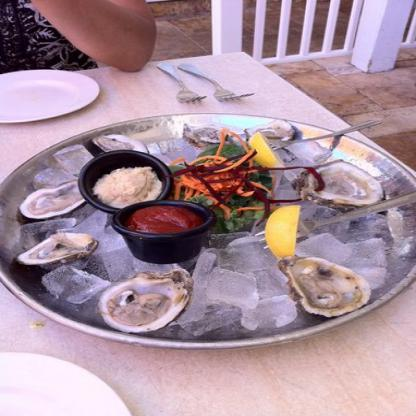oyster: (281, 255, 369, 323), (94, 269, 183, 331), (305, 158, 382, 213), (23, 181, 94, 218)
